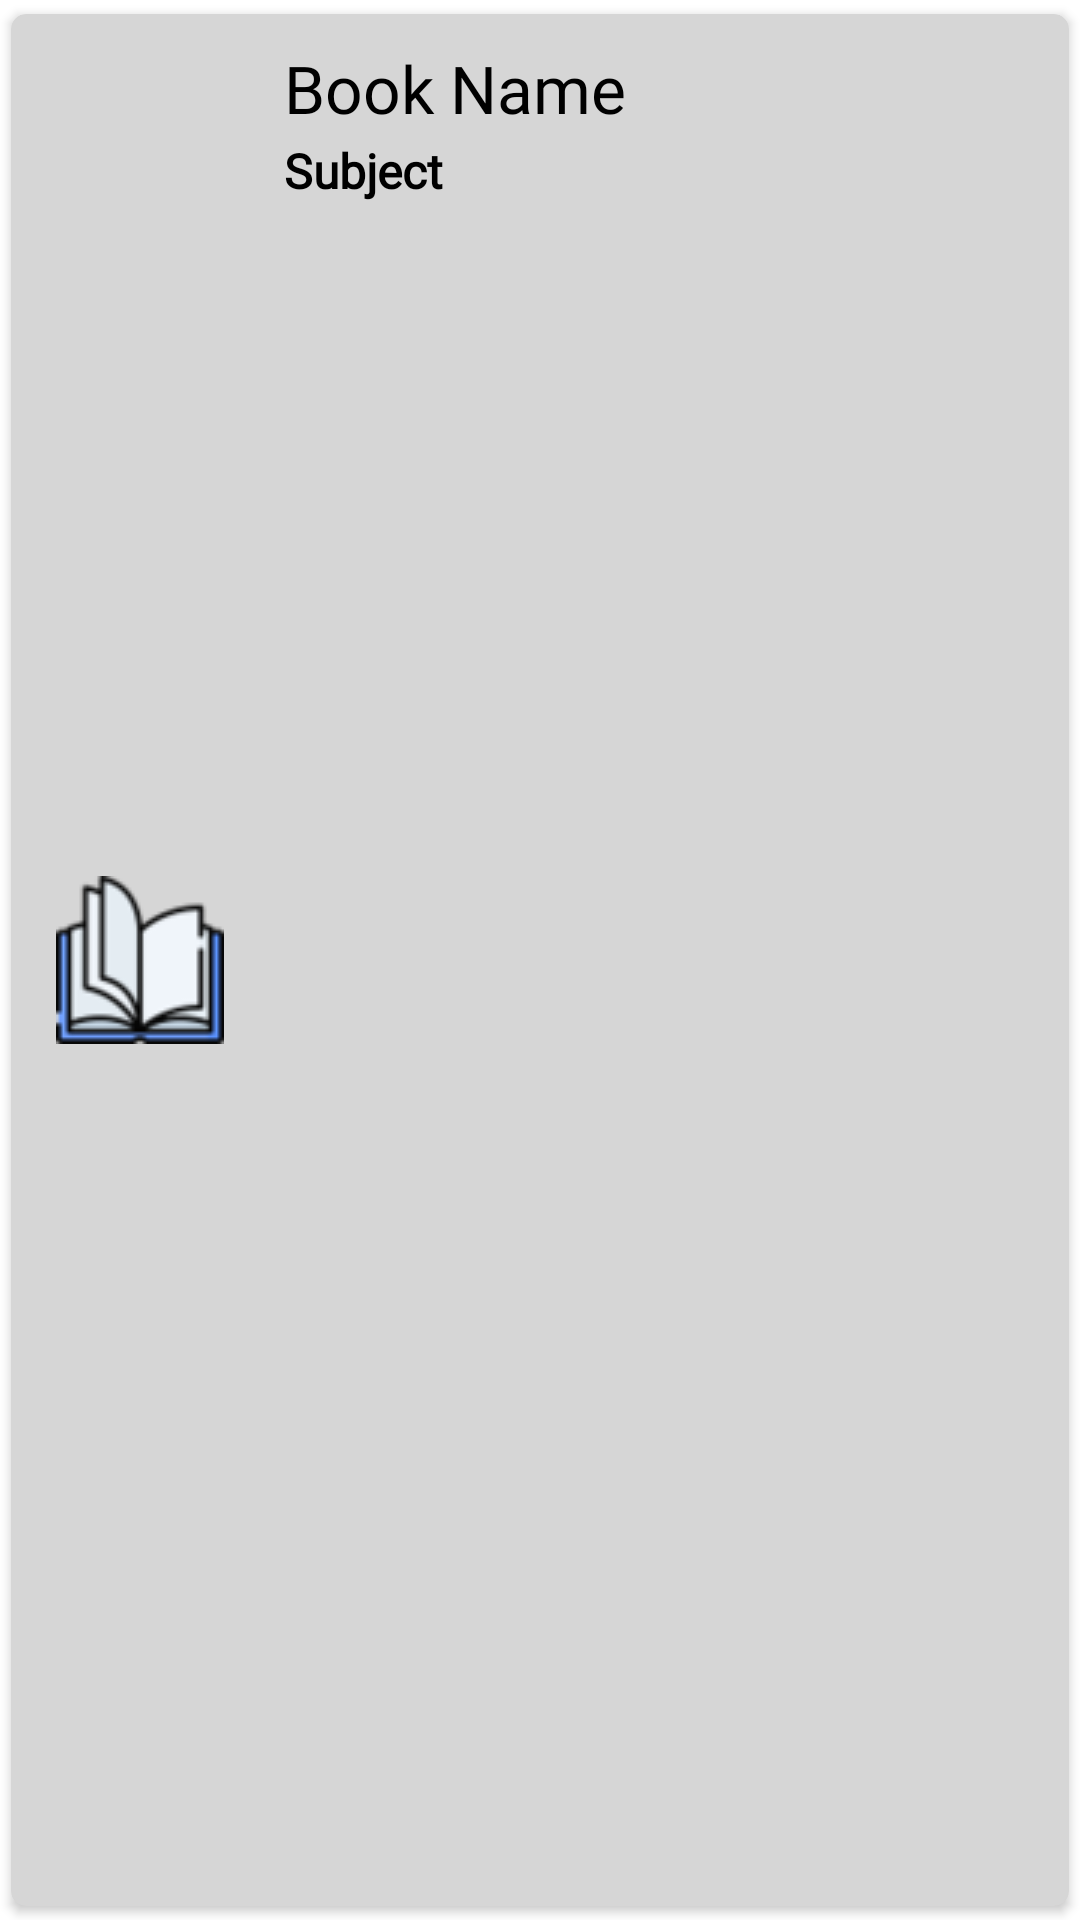

Locate icon controls on the screen. Image size 1080px×1920px, boxes as bbox(x1, y1, x2, y2).
booki: bbox(56, 876, 224, 1044)
